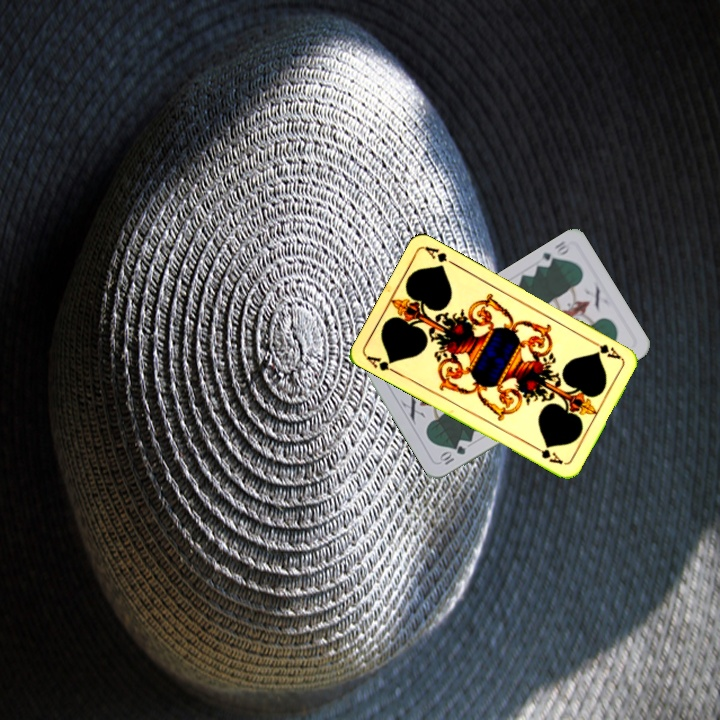G10: (534, 236, 572, 270), (436, 441, 468, 467)
GA: (362, 351, 401, 377), (587, 336, 624, 362)
